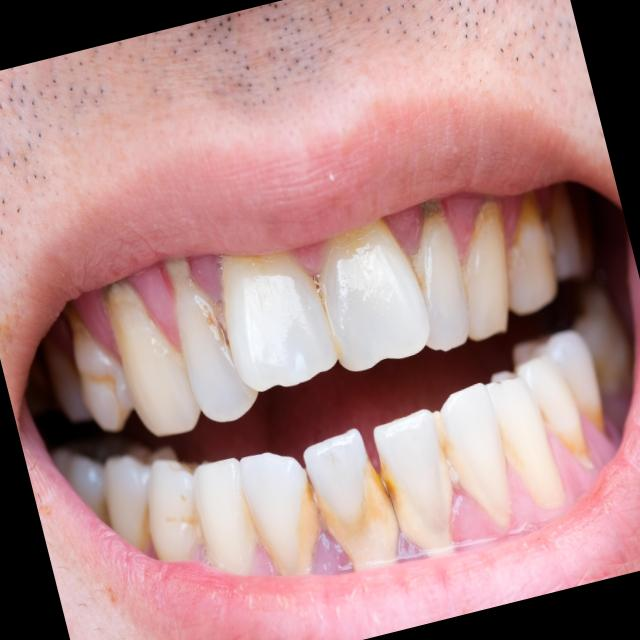Tooth: (318, 217, 430, 371), (220, 252, 338, 392), (163, 257, 259, 422), (103, 281, 201, 436), (303, 428, 399, 570), (490, 355, 591, 467), (373, 409, 453, 549), (484, 376, 565, 506), (439, 382, 510, 527), (239, 452, 320, 575), (63, 303, 134, 430), (412, 198, 469, 350), (191, 457, 259, 573), (463, 202, 509, 341), (507, 193, 559, 315), (147, 459, 200, 561)
